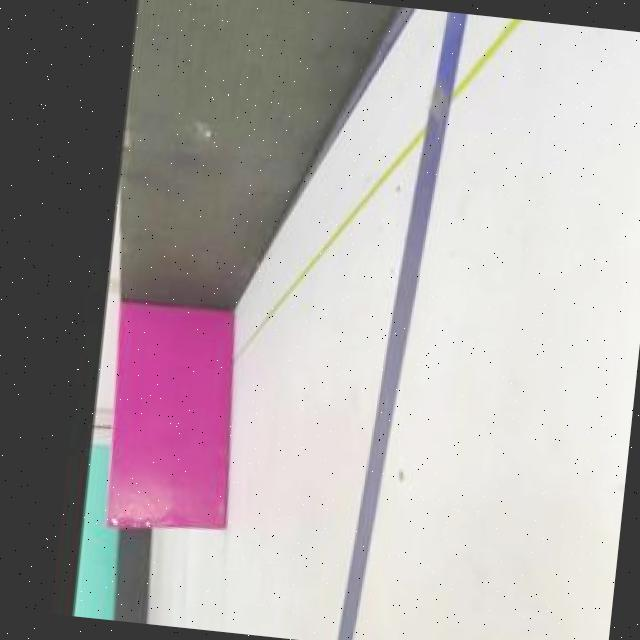xparking: (103, 322, 240, 532)
